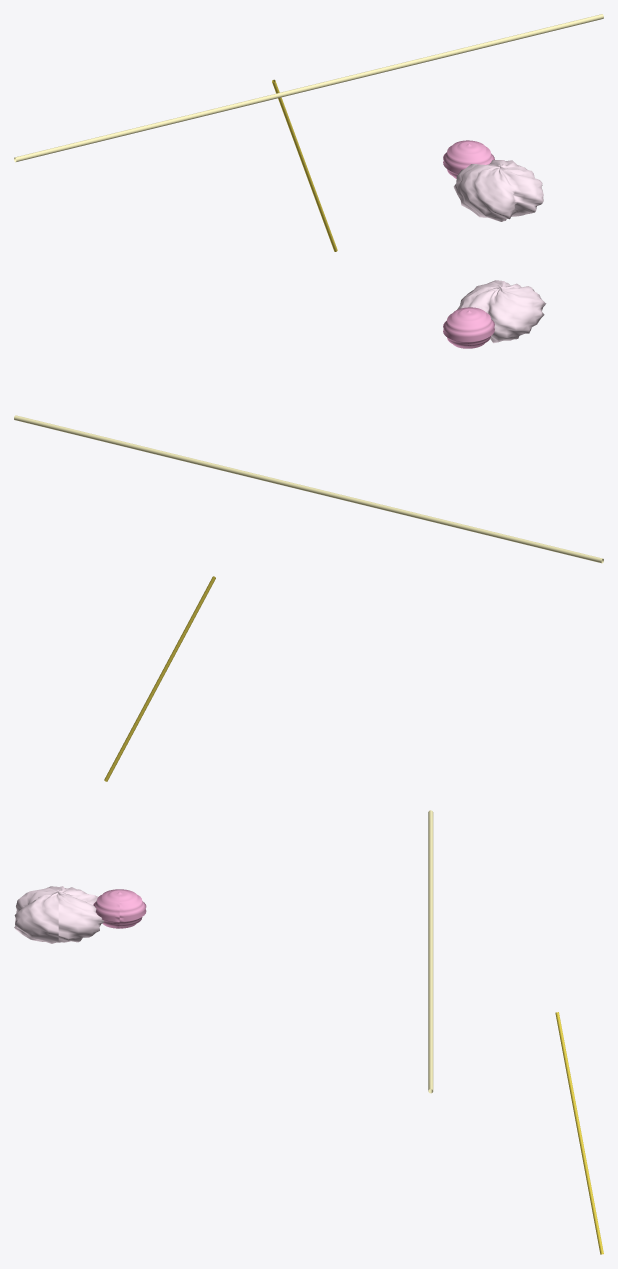
File: nervous.glb
3 views of the same model, one above another, from view 1: azimuth 30°, elevation 25°; view 2: azimuth 150°, elevation 25°; view 3: azimuth 270°, elevation 25° (orthographic). The views are drawn at different scales.
Visible parts, largest first — view 1: Mesh_Feline_Encephalon, Mesh_Feline_MedullaSpinalis, Mesh_Feline_Cerebellum, Mesh_Feline_NervusIschiadicus; view 2: Mesh_Feline_MedullaSpinalis, Mesh_Feline_Encephalon, Mesh_Feline_Cerebellum, Mesh_Feline_NervusIschiadicus; view 3: Mesh_Feline_Encephalon, Mesh_Feline_MedullaSpinalis, Mesh_Feline_Cerebellum, Mesh_Feline_NervusIschiadicus.
Part boxes in pixels (<box>): Mesh_Feline_Encephalon: <box>453,160,543,221</box>; Mesh_Feline_MedullaSpinalis: <box>14,14,603,162</box>; Mesh_Feline_Cerebellum: <box>443,140,494,178</box>; Mesh_Feline_NervusIschiadicus: <box>272,79,337,251</box>; Mesh_Feline_MedullaSpinalis: <box>14,415,603,563</box>; Mesh_Feline_Encephalon: <box>457,280,546,343</box>; Mesh_Feline_Cerebellum: <box>443,307,494,348</box>; Mesh_Feline_NervusIschiadicus: <box>104,576,215,781</box>; Mesh_Feline_Encephalon: <box>14,886,104,943</box>; Mesh_Feline_MedullaSpinalis: <box>428,810,433,1093</box>; Mesh_Feline_Cerebellum: <box>93,889,146,928</box>; Mesh_Feline_NervusIschiadicus: <box>555,1012,603,1254</box>.
Bounding box in the file's own units: 0.975 × 0.5041 × 0.872.
